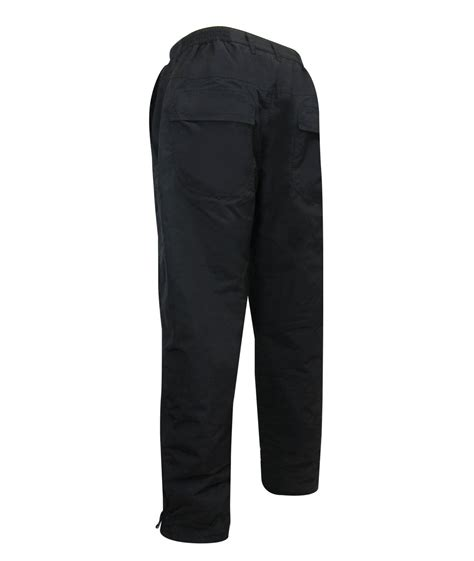nylon: (150, 24, 324, 544)
